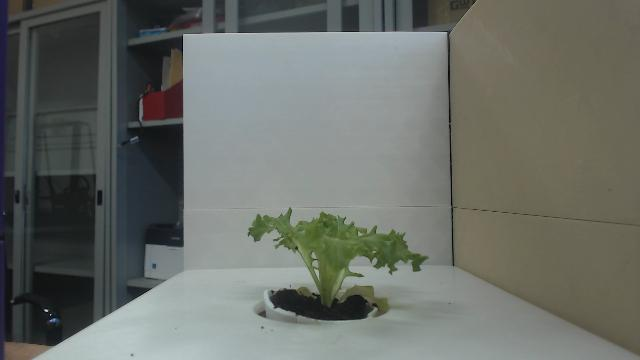Vegetative Stage: (246, 206, 429, 310)
